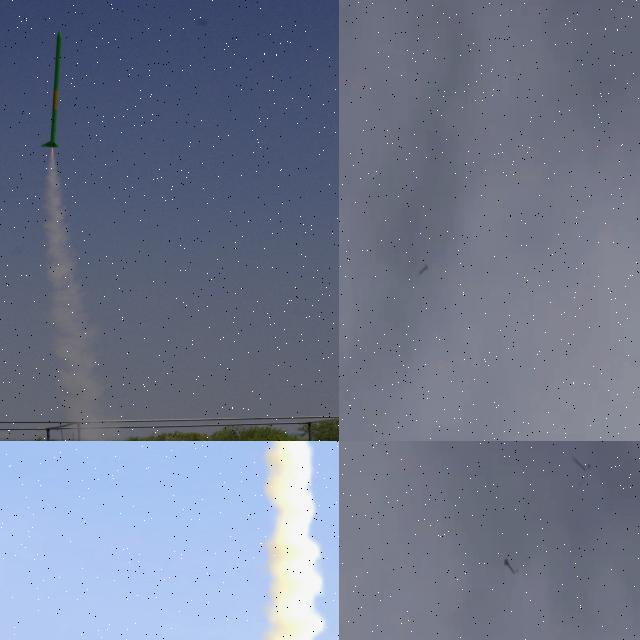Rocket: (41, 29, 63, 148), (504, 558, 515, 575), (419, 264, 429, 276)
